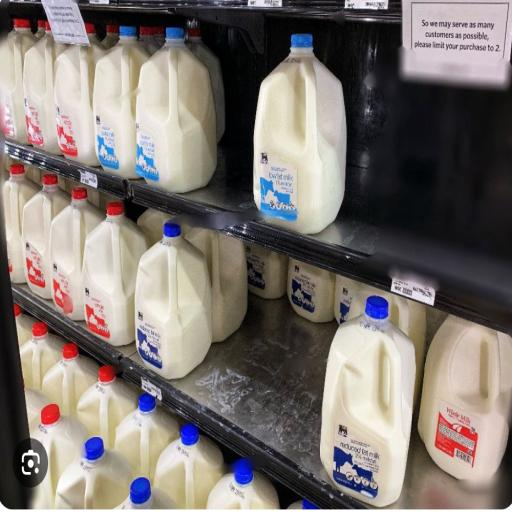green_milk: (320, 296, 415, 506), (254, 41, 347, 234), (418, 315, 511, 485), (134, 28, 217, 192), (135, 222, 211, 379), (82, 202, 148, 345), (93, 27, 149, 178), (334, 275, 425, 365), (183, 225, 247, 342), (54, 28, 105, 166), (51, 188, 103, 320), (23, 175, 70, 299), (32, 405, 88, 508), (115, 394, 179, 484), (24, 24, 67, 154), (77, 366, 138, 448), (0, 19, 36, 144), (4, 165, 38, 283), (289, 260, 334, 322), (246, 244, 288, 299), (234, 459, 253, 485)
